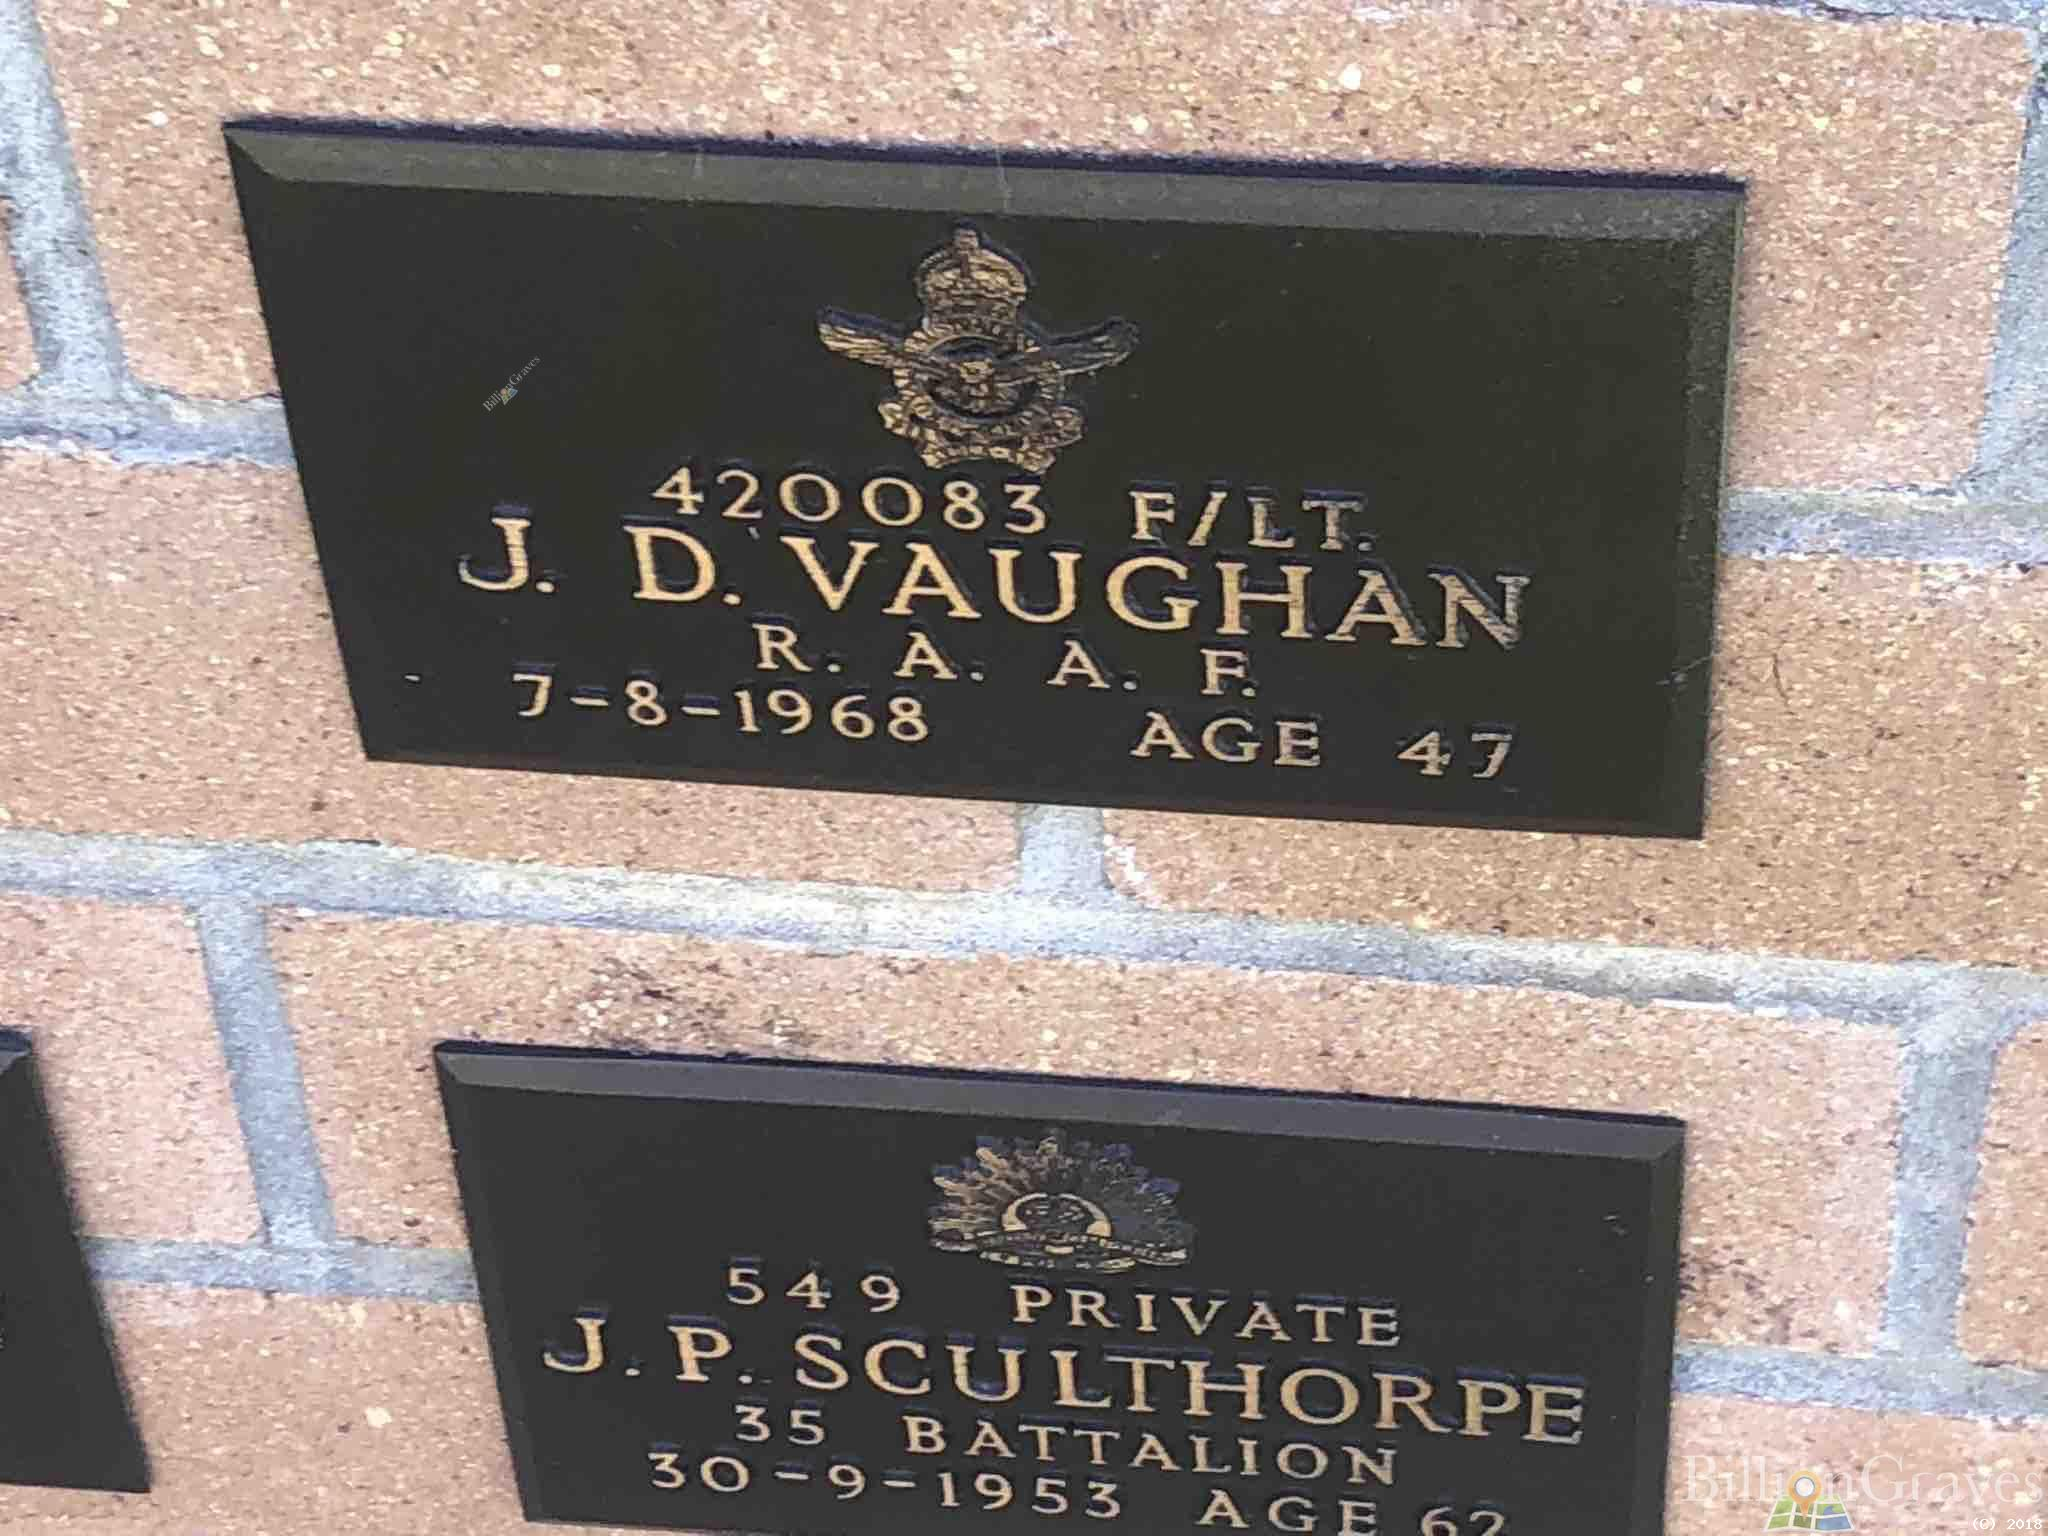plaque: (210, 106, 1738, 842)
